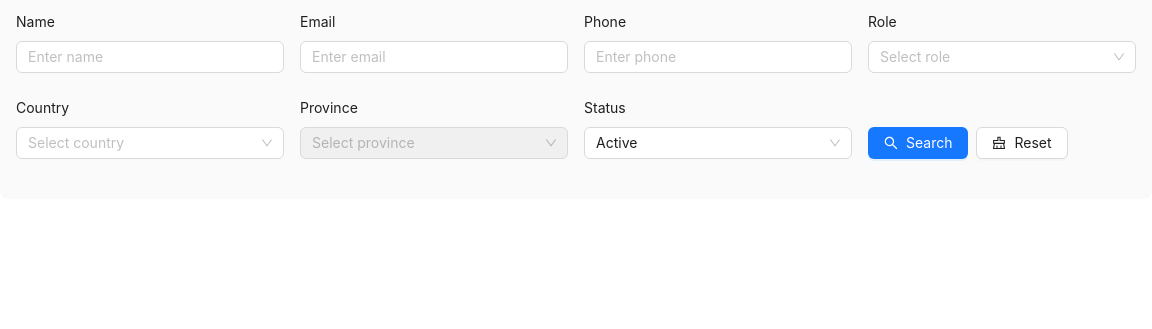
it: UserFilters Component › Form Interactions › should update province options when country changes
# Select Canada
Click the dropdown labelled "Country".
click(50, 108)  # box top-left (16, 97), bottom-right (83, 119)
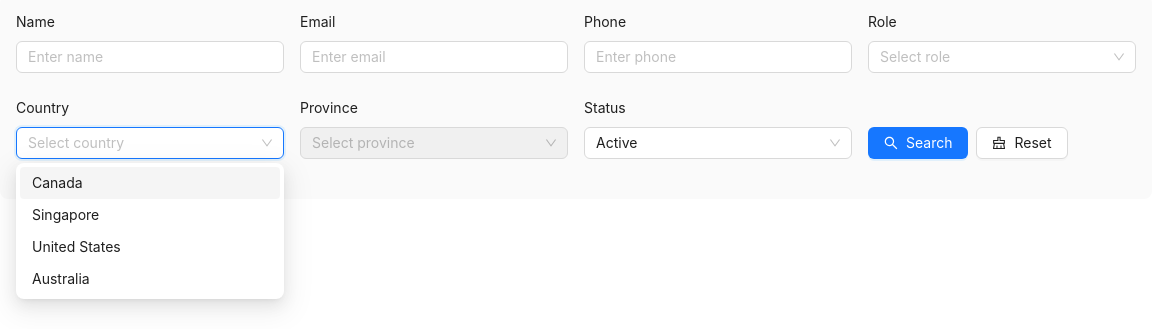
Now the text "Canada" is shown
Click the text "Canada".
click(57, 182)  # box top-left (32, 174), bottom-right (83, 191)
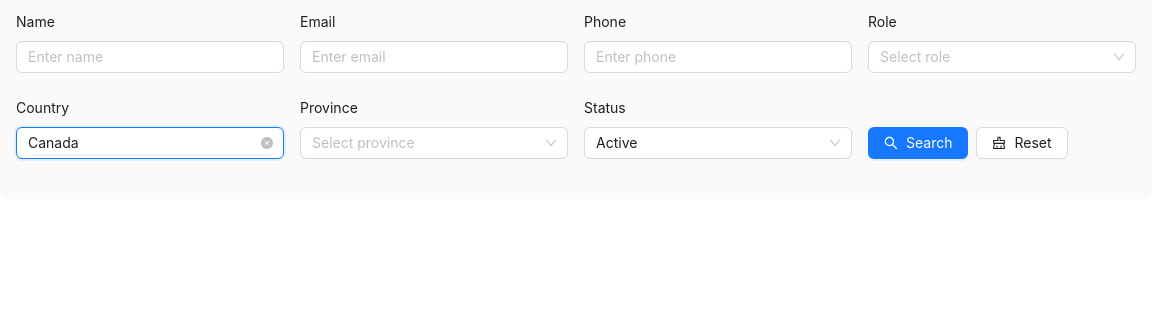
# Check that province dropdown is updated
Click the dropdown labelled "Province".
click(336, 108)  # box top-left (300, 97), bottom-right (372, 119)
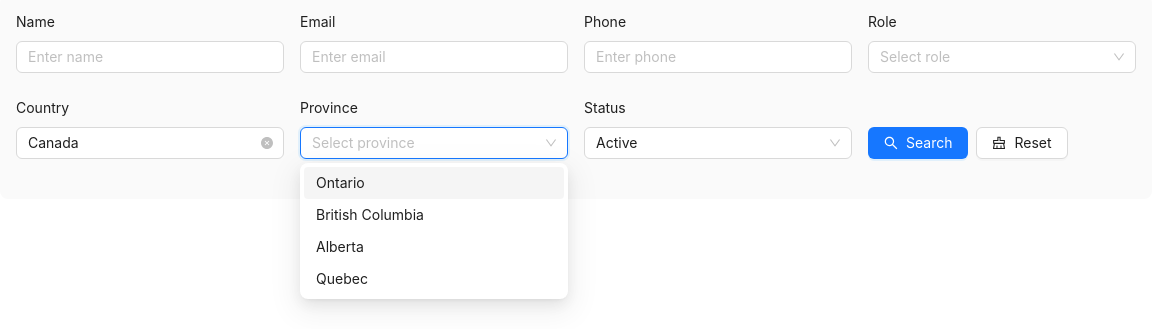
Now the text "Ontario" is shown, box top-left (316, 174), bottom-right (365, 191)
Now the text "Quebec" is shown, box top-left (316, 270), bottom-right (368, 287)
Now the text "British Columbia" is shown, box top-left (316, 206), bottom-right (424, 223)
